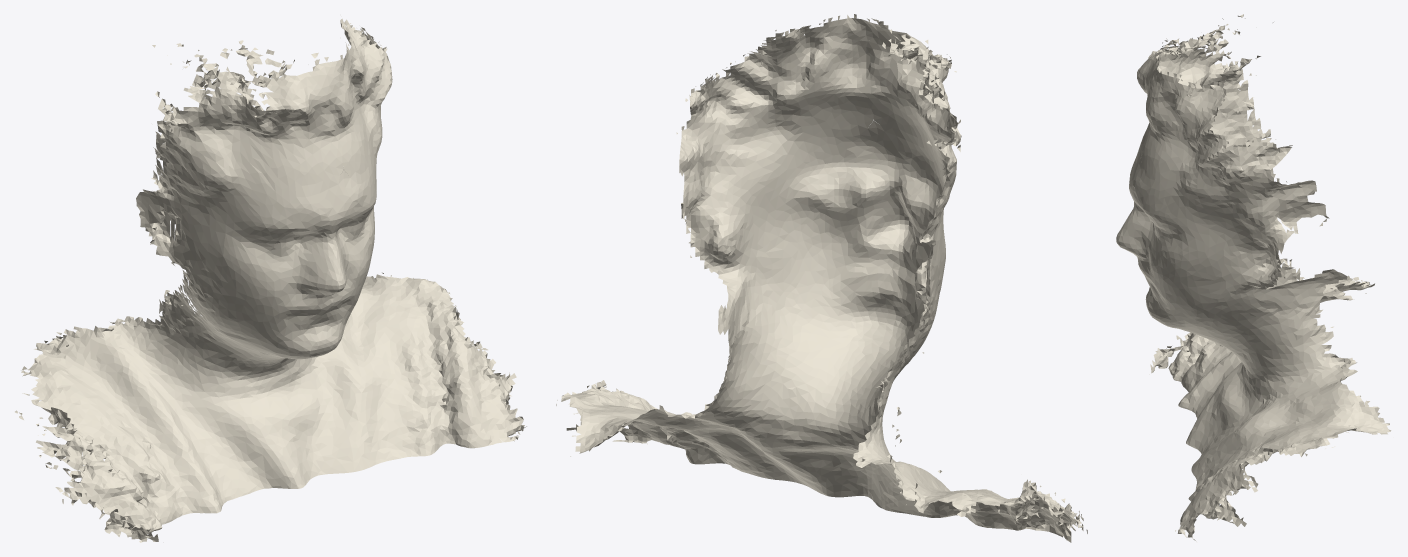
Rendered from austonLowPolyRough.glb.
The picture shows the model from 3 angles, left to right: view 1: azimuth 30°, elevation 25°; view 2: azimuth 150°, elevation 25°; view 3: azimuth 270°, elevation 25°; orthographic projection. The views are drawn at different scales.
Parts seen in each view (by area): view 1: textured_output; view 2: textured_output; view 3: textured_output.
Part boxes in pixels (x1,y1,x2,y2): textured_output: (15,18,526,542); textured_output: (556,14,1087,542); textured_output: (1116,14,1391,541).
Bounding box in the file's own units: 6.86 × 6.16 × 3.95.
